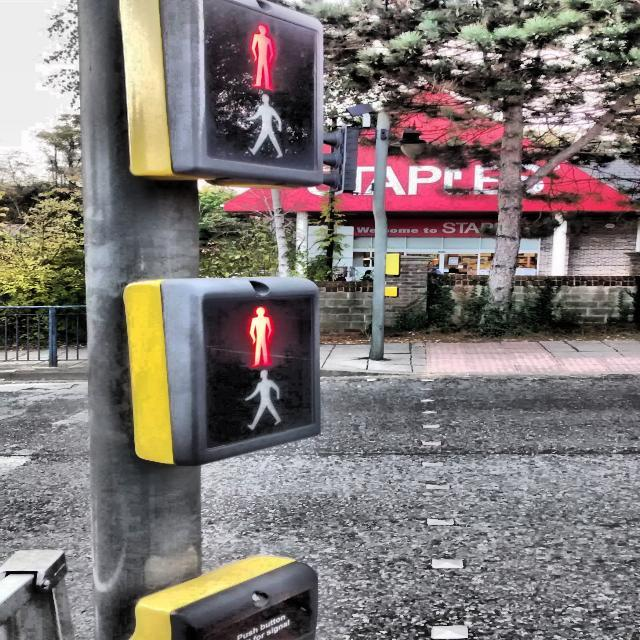red_light: (245, 21, 282, 93), (242, 306, 277, 370)
